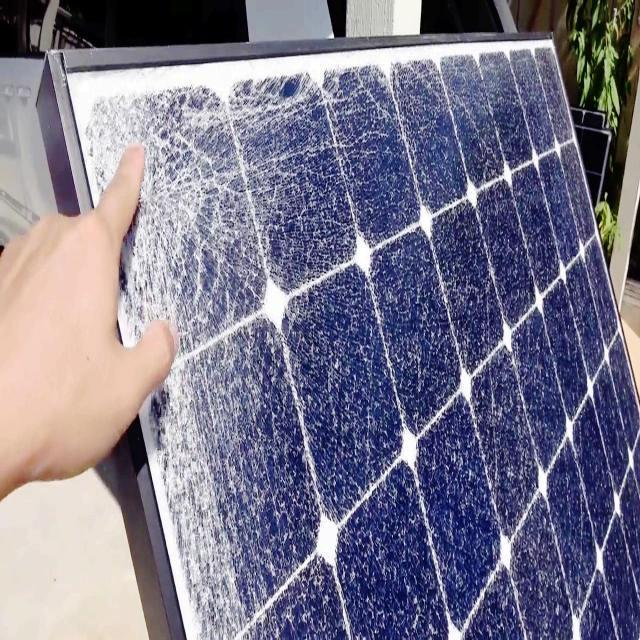faulty: (58, 34, 639, 640)
